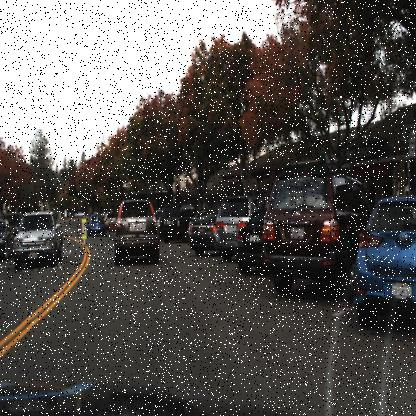car: (261, 154, 358, 305), (354, 193, 416, 334), (109, 196, 163, 267), (10, 208, 66, 275), (13, 209, 62, 266), (213, 188, 252, 259), (232, 200, 266, 275), (158, 198, 192, 247), (184, 206, 217, 256), (159, 202, 191, 240), (86, 211, 109, 239)
